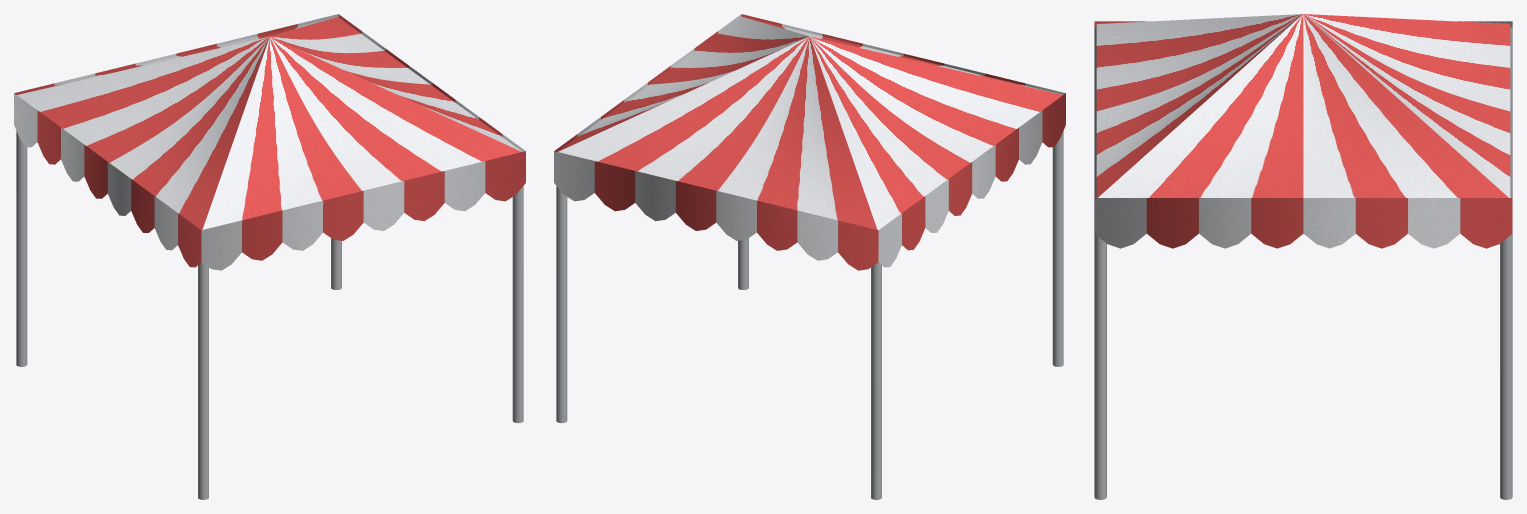
File: market_tent_v2_lod0.glb
3 renders of one model, left to right at view 1: azimuth 30°, elevation 25°; view 2: azimuth 150°, elevation 25°; view 3: azimuth 270°, elevation 25°, orthographic. The views are drawn at different scales.
Parts seen in each view (by area): view 1: market_tent_v2; view 2: market_tent_v2; view 3: market_tent_v2.
Part boxes in pixels (box(x1,y1,x2,y2)): market_tent_v2: box(14, 14, 525, 499); market_tent_v2: box(554, 14, 1065, 499); market_tent_v2: box(1094, 14, 1512, 499).
Bounding box in the file's own units: 1.01 × 1.06 × 1.01.
2 materials, 1 textured.
